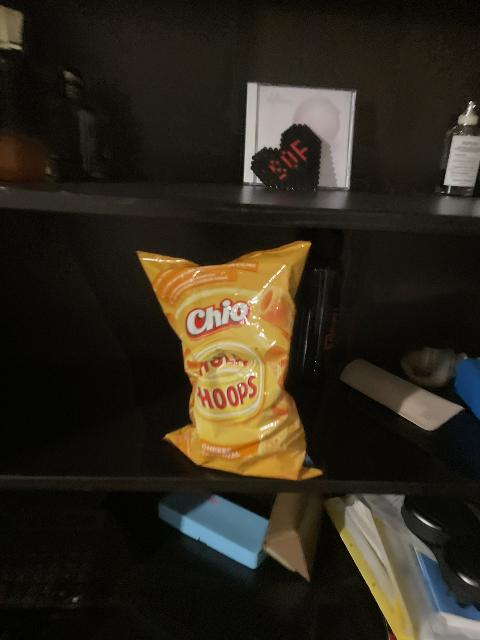Chio Hula Hoops Cheese 70g: (137, 243, 323, 478)
